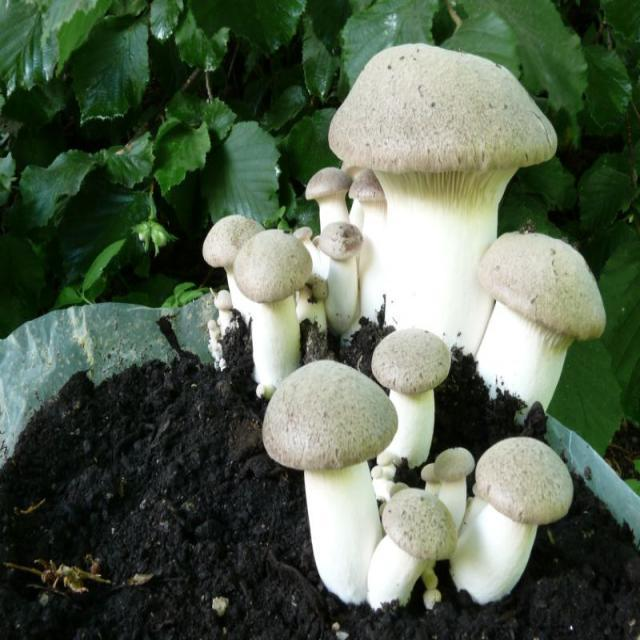Pleurotus eryngii: (331, 46, 559, 345), (262, 362, 456, 608), (473, 231, 602, 413), (458, 436, 573, 601), (205, 215, 312, 385)
